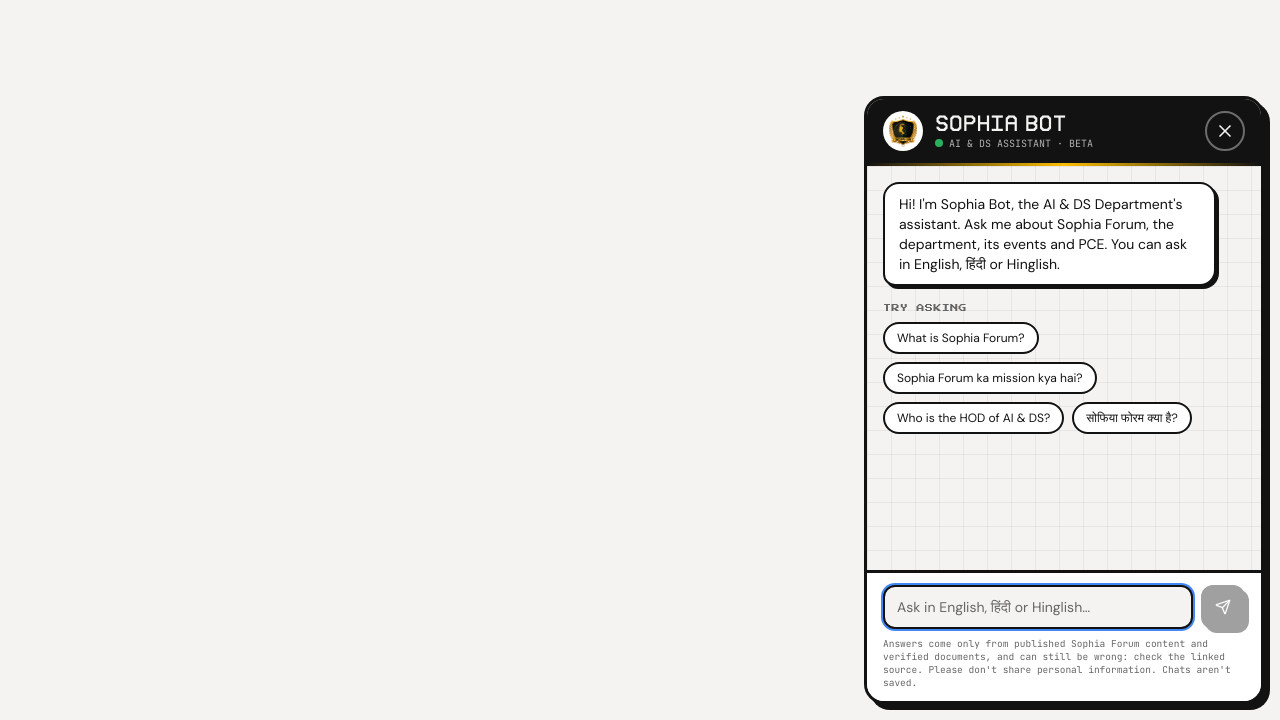
chat panel › a fallback is shown without sources; answers are plain text, never HTML
Type "quantum?" into the text box named "Your question" at x=1038, y=607, box [883,585,1193,629]
Then press Enter
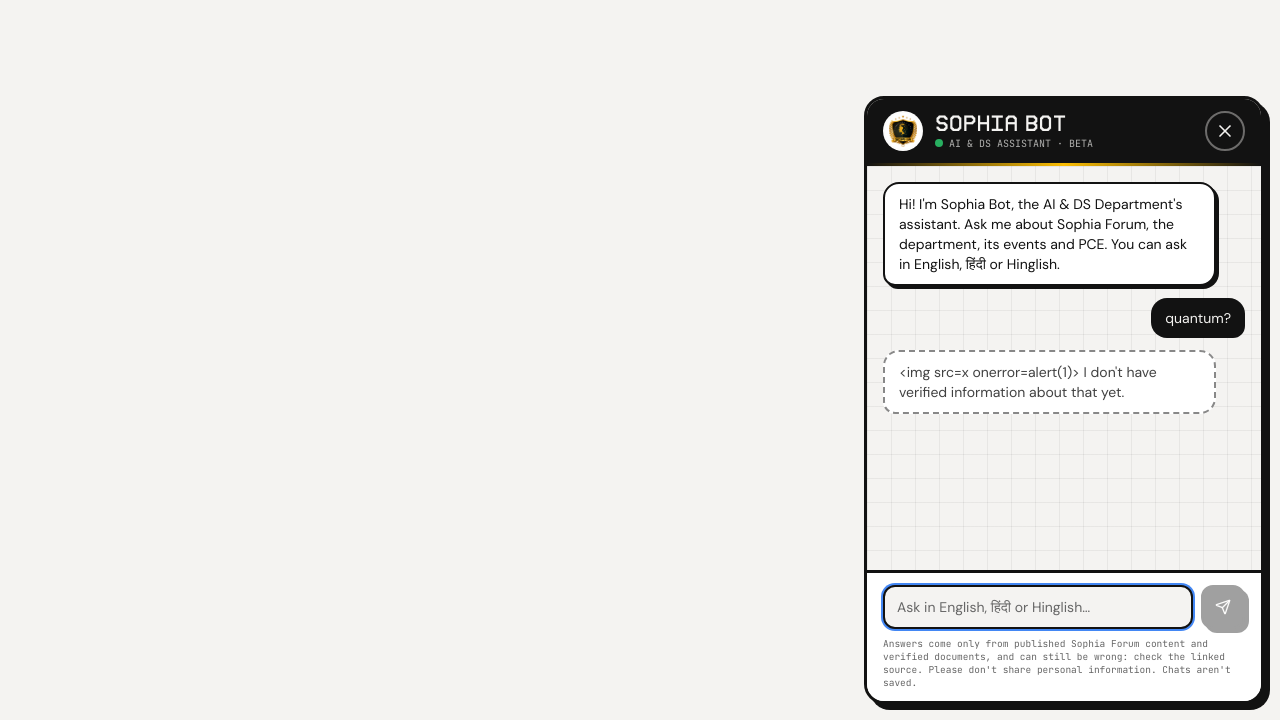
expect the text "I don't have verified information" is shown: met, box [899,363,1157,401]
